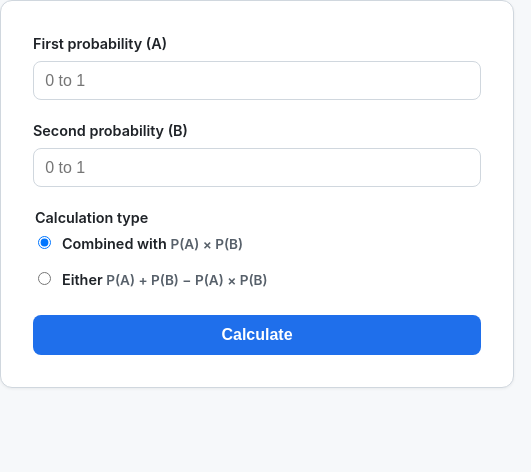
CalculatorForm › surfaces server-side validation errors against the right field
This screenshot has width=531, height=472.
Type "0.5" into the number field labelled "First probability (A)" at (257, 81), box [33,61,481,100]
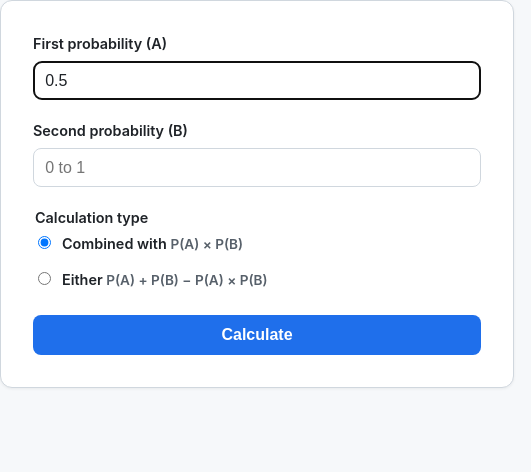
Type "0.4" into the number field labelled "Second probability (B)" at (257, 168), box [33,148,481,187]
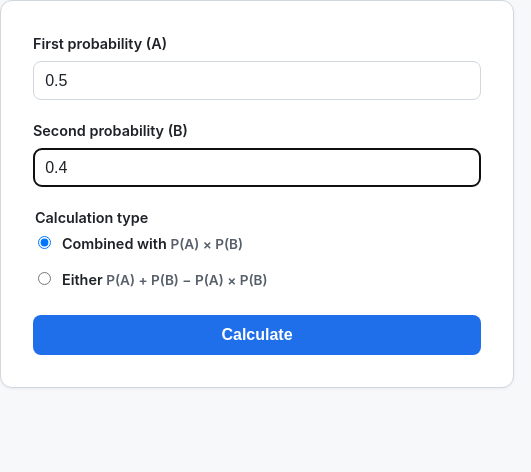
Click the button "Calculate" at (257, 335), box [33,315,481,355]
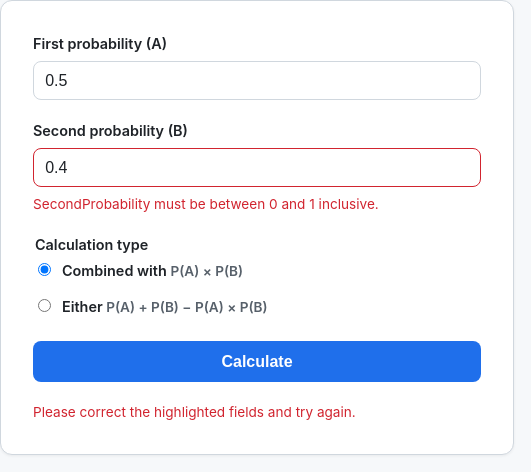
Now the text "SecondProbability must be between 0 and 1 inclusive." is shown, box [33,196,379,212]
